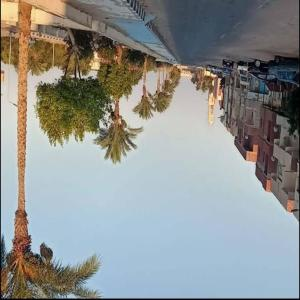palm tree: (0, 1, 103, 298), (93, 45, 144, 165)
